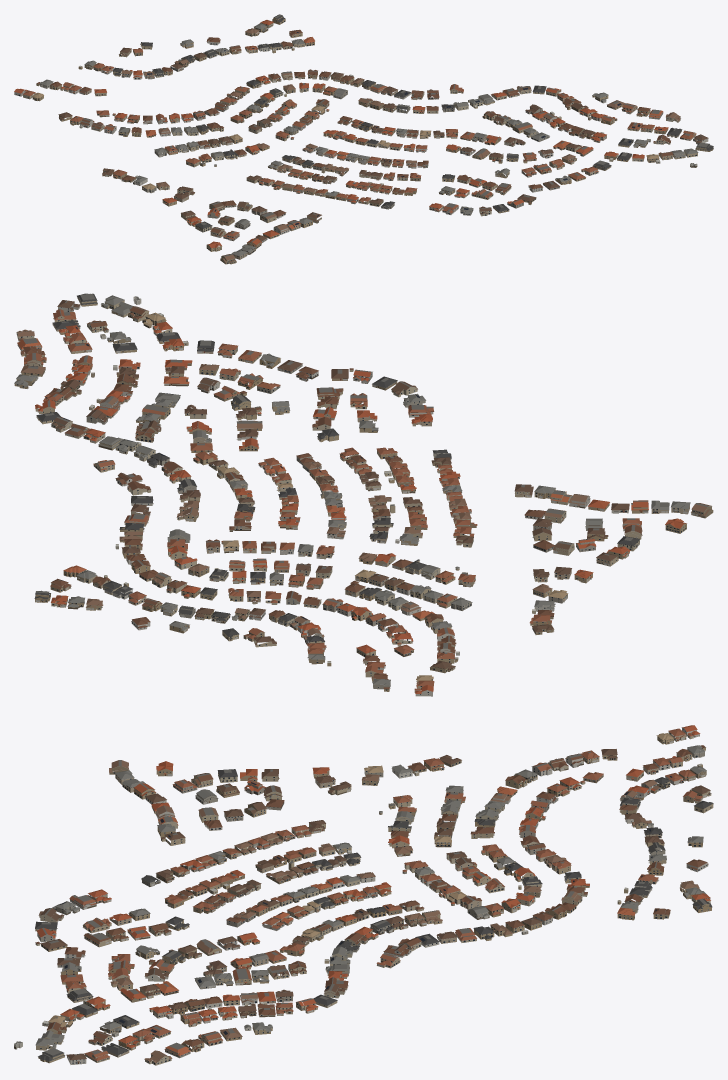
3 views of the same model, one above another, from view 1: azimuth 30°, elevation 25°; view 2: azimuth 150°, elevation 25°; view 3: azimuth 270°, elevation 25° (orthographic). The views are drawn at different scales.
Parts seen in each view (by area): view 1: buildings_r5_c5_lod0; view 2: buildings_r5_c5_lod0; view 3: buildings_r5_c5_lod0.
Boxes of the visible parts, left/top/right/bottom form: buildings_r5_c5_lod0: left=14, top=14, right=713, bottom=264; buildings_r5_c5_lod0: left=14, top=293, right=713, bottom=696; buildings_r5_c5_lod0: left=14, top=725, right=713, bottom=1065.
Bounding box in the file's own units: 878 × 67.59 × 780.
